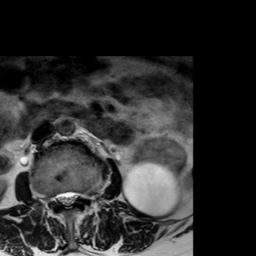CCS_normal: (64, 179, 71, 216)
LFS_stenosis: (79, 181, 87, 205)
LLS_stenosis: (71, 183, 79, 209)
RFS_normal: (48, 185, 56, 209)
RLS_normal: (56, 184, 64, 209)
